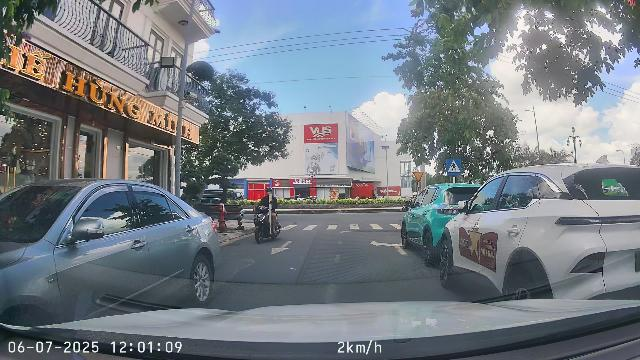208-giao-nhau-voi-duong-uu-tien: (412, 172, 424, 182)
423a-duong-nguoi-di-bo-sang-ngang-1: (446, 159, 462, 175)
